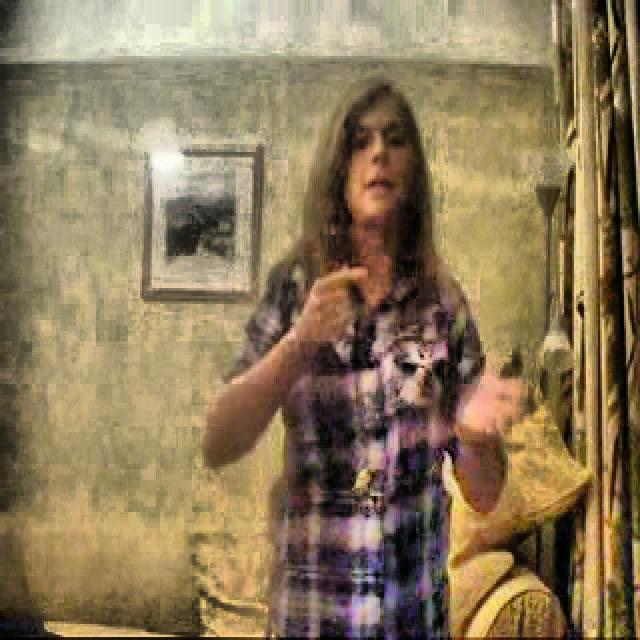F: (202, 67, 489, 640)
